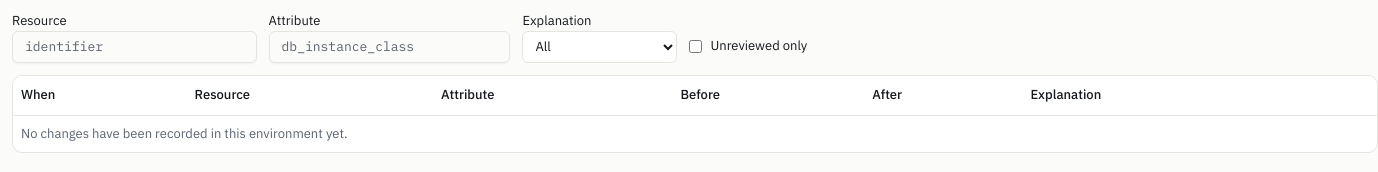
ChangesView › tells an environment with no recorded changes from a server filter that leaves none
This screenshot has width=1378, height=172.
Expected: the text "No changes have been recorded in this environment yet." is shown, [13, 116, 1377, 152]
Select "Outside the console" in the dropdown labelled "Explanation" at (600, 47), box [522, 31, 678, 63]
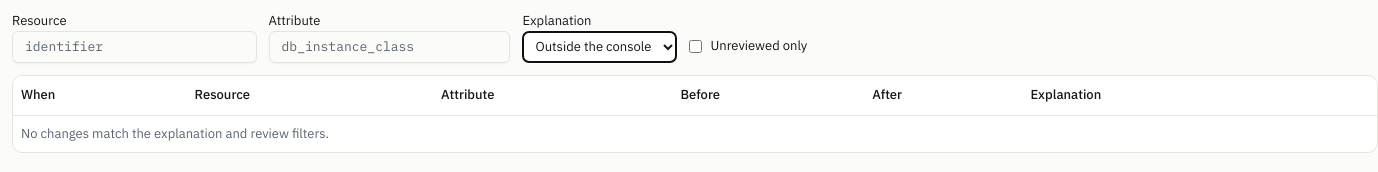
Result: the text "No changes match the explanation and review filters." is shown at [13, 116, 1377, 152]
